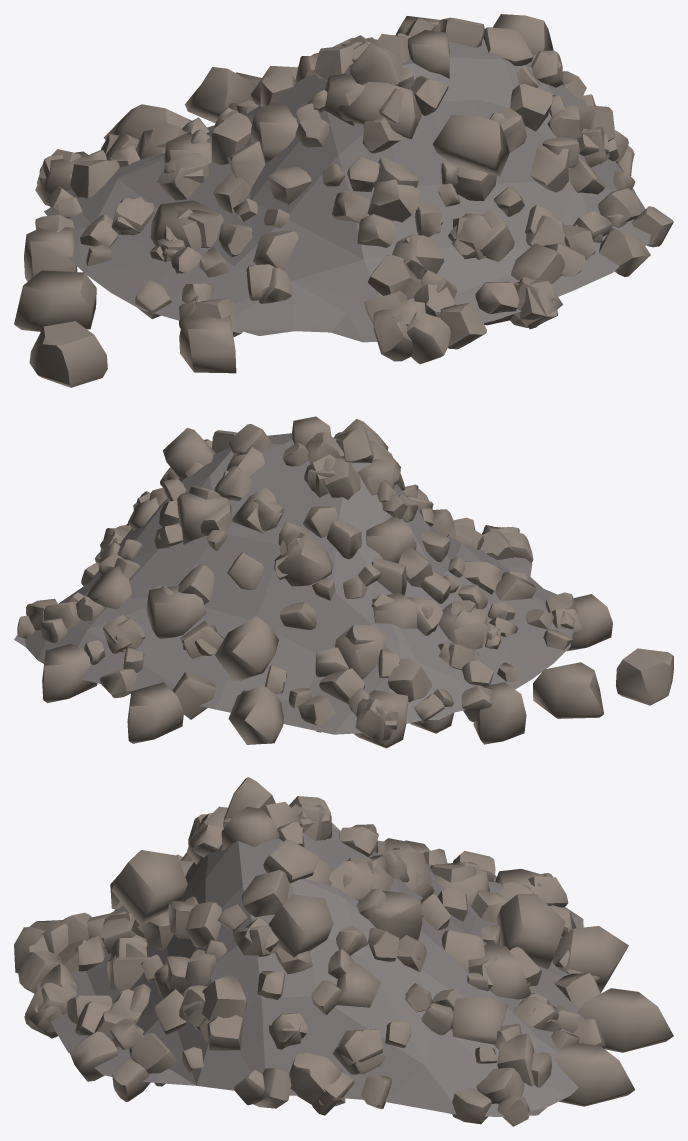
File: StonePile.fbx
The picture shows the model from 3 angles, top to bottom: view 1: azimuth 30°, elevation 25°; view 2: azimuth 150°, elevation 25°; view 3: azimuth 270°, elevation 25°; orthographic projection. The views are drawn at different scales.
Parts seen in each view (by area): view 1: Plane.002; view 2: Plane.002; view 3: Plane.002.
Boxes of the visible parts, x1=… form: Plane.002: x1=14, y1=14, x2=673, y2=387; Plane.002: x1=14, y1=416, x2=673, y2=748; Plane.002: x1=14, y1=777, x2=673, y2=1126.
Bounding box in the file's own units: 119 × 44.59 × 109.
